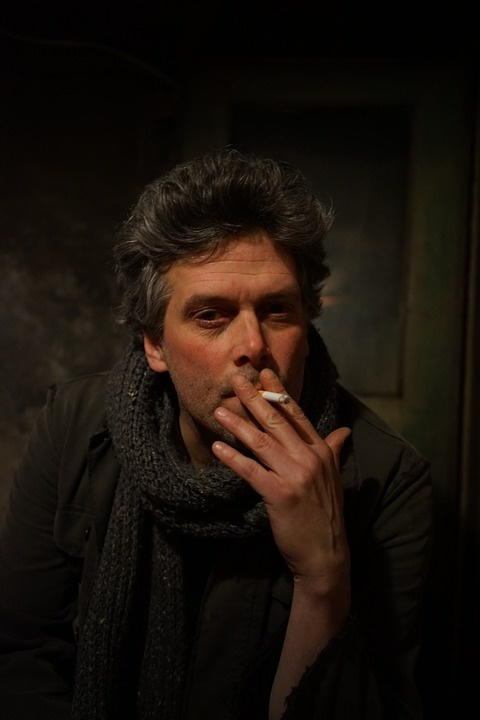sigaretta: (242, 389, 286, 402)
